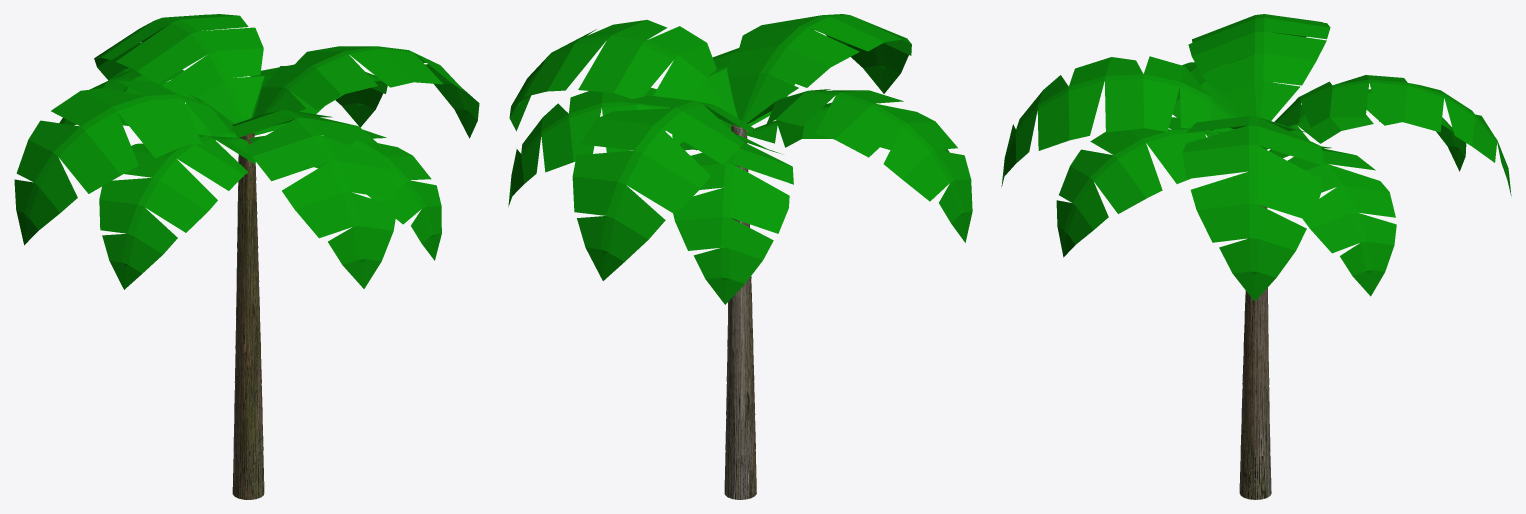
The model's file is Palmera.fbx.
3 renders of one model, left to right at view 1: azimuth 30°, elevation 25°; view 2: azimuth 150°, elevation 25°; view 3: azimuth 270°, elevation 25°, orthographic. The views are drawn at different scales.
Visible parts, largest first — view 1: Sphere.004, Sphere.001, Cylinder; view 2: Sphere.004, Sphere.001, Cylinder; view 3: Sphere.004, Sphere.001, Cylinder.
Part boxes in pixels (x1=…): Sphere.004: x1=14, y1=14, x2=441, y2=289; Sphere.001: x1=253, y1=46, x2=479, y2=138; Cylinder: x1=232, y1=133, x2=264, y2=499; Sphere.004: x1=508, y1=14, x2=972, y2=304; Sphere.001: x1=509, y1=19, x2=736, y2=131; Cylinder: x1=724, y1=124, x2=756, y2=499; Sphere.004: x1=1001, y1=14, x2=1511, y2=296; Sphere.001: x1=1182, y1=116, x2=1324, y2=301; Cylinder: x1=1239, y1=205, x2=1271, y2=499.
Size of the model in its own units: 256 by 231 by 258.
3 materials, 3 textured.
